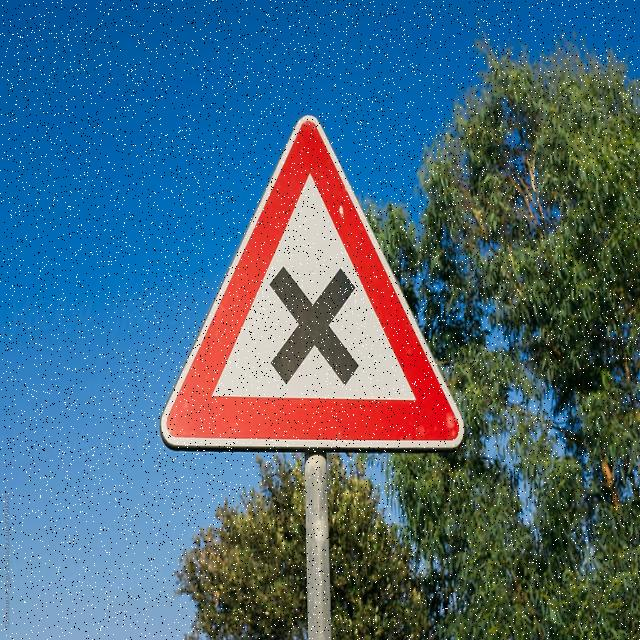Crossroads: (162, 109, 459, 442)
